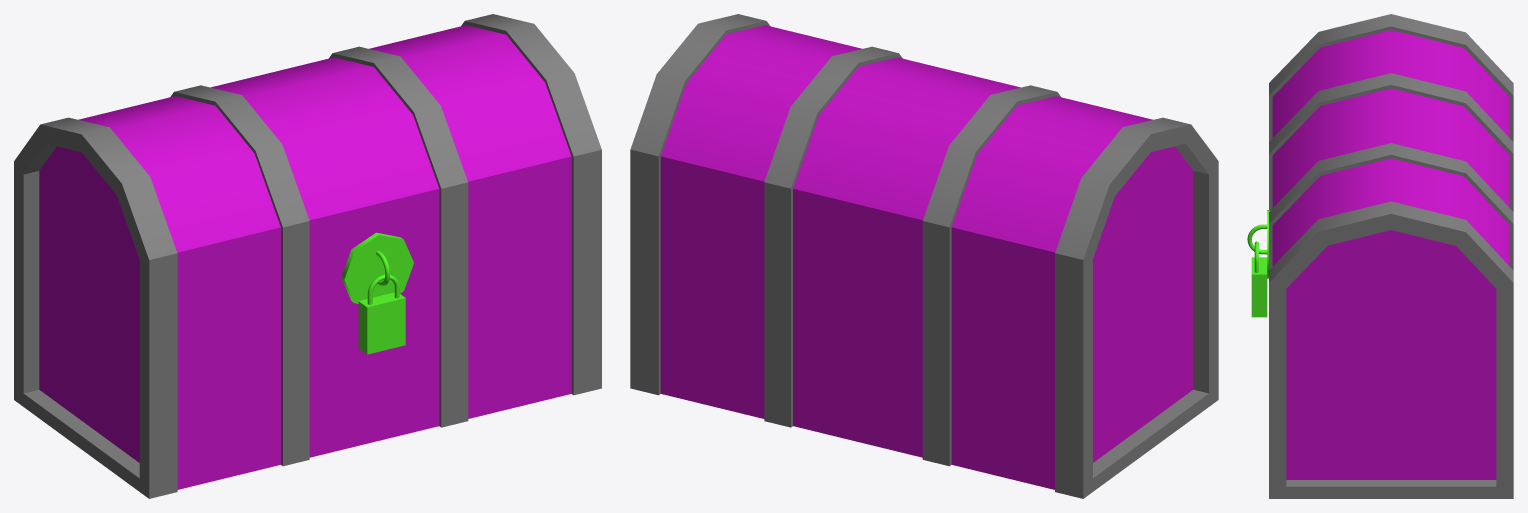
The model's file is cofre_02.fbx.
3 views of the same model, side by side, from view 1: azimuth 30°, elevation 25°; view 2: azimuth 150°, elevation 25°; view 3: azimuth 270°, elevation 25° (orthographic). The views are drawn at different scales.
Parts seen in each view (by area): view 1: Box003; view 2: Box003; view 3: Box003.
Part boxes in pixels (x1=…): Box003: x1=14, y1=14, x2=601, y2=498; Box003: x1=630, y1=14, x2=1218, y2=498; Box003: x1=1247, y1=14, x2=1513, y2=498.
Size of the model in its own units: 268 by 178 by 151.
